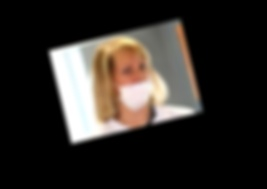mask_weared_incorrect: (104, 41, 152, 111)
